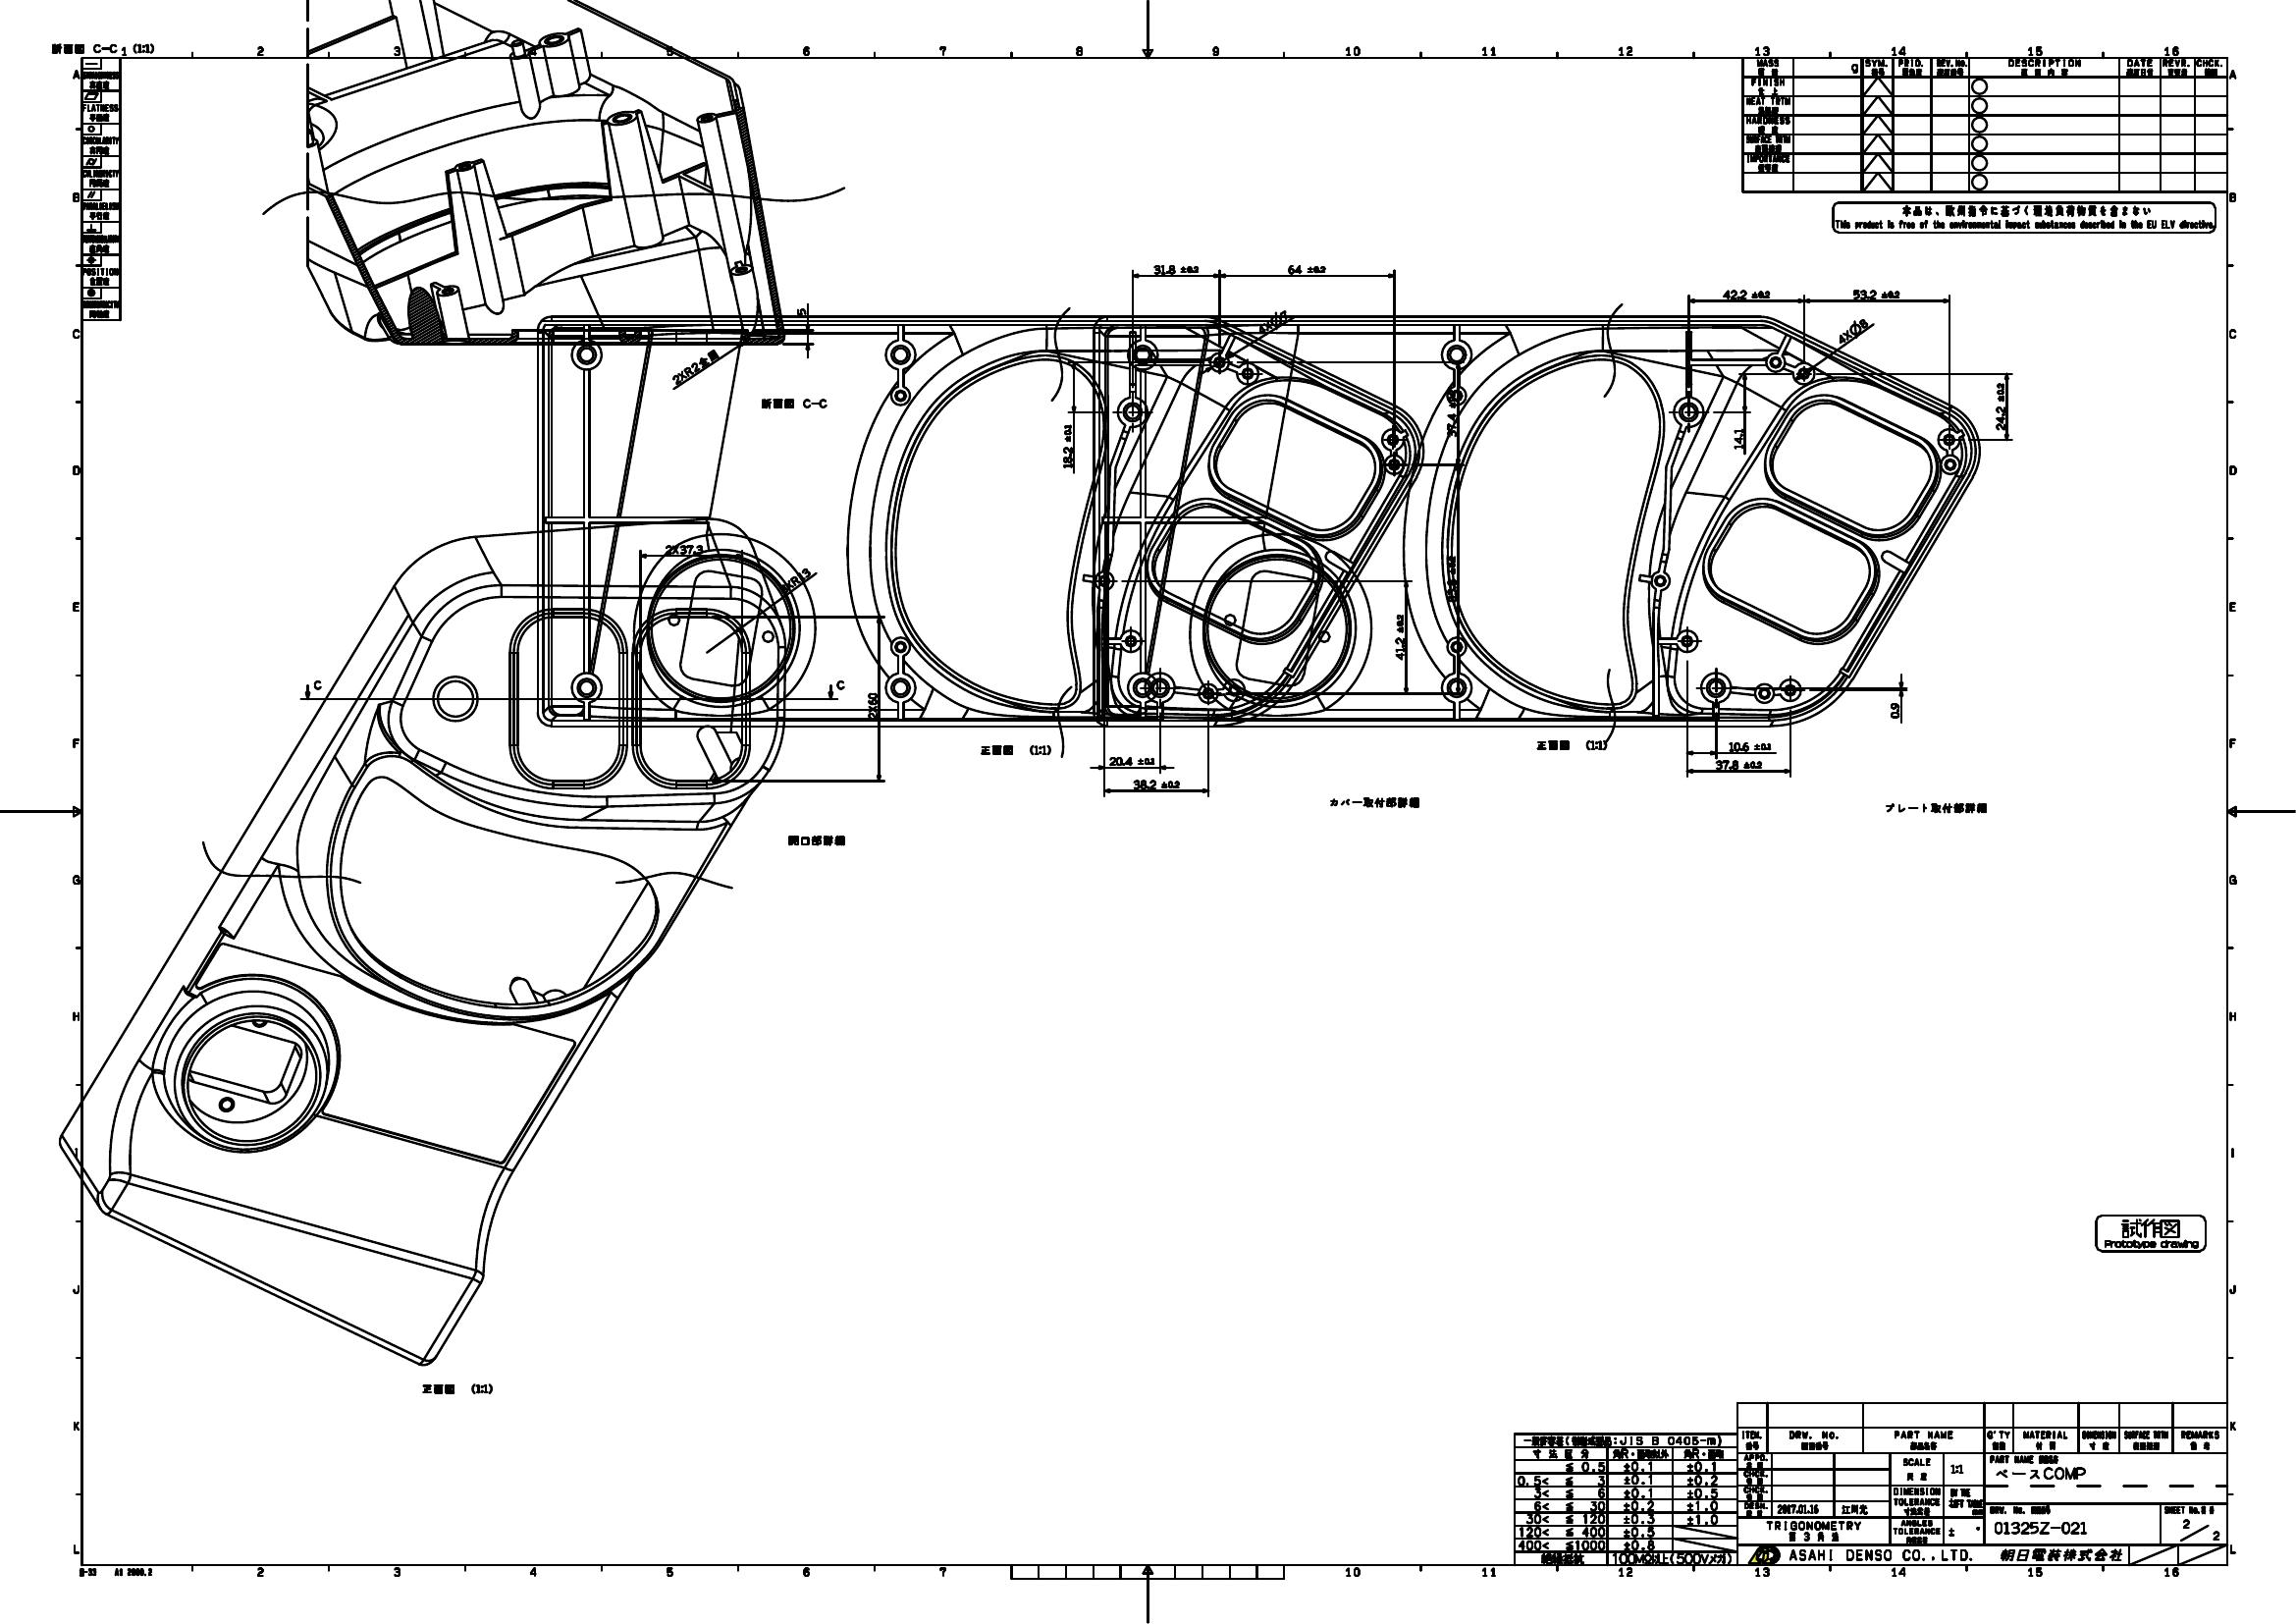anntotation_text: (1832, 202, 2215, 230), (2094, 1216, 2206, 1251), (47, 40, 162, 56), (1880, 801, 1992, 816), (1325, 796, 1423, 812), (980, 742, 1058, 759), (416, 1380, 499, 1396), (783, 833, 848, 851), (1532, 738, 1607, 752), (761, 395, 840, 408), (77, 1568, 153, 1577), (697, 350, 722, 364), (834, 677, 848, 692), (313, 675, 325, 692)
dimension_text: (1151, 262, 1203, 278), (1994, 380, 2008, 432), (1059, 424, 1073, 471), (1393, 608, 1405, 661), (1727, 740, 1776, 752), (1133, 777, 1180, 789), (662, 541, 703, 555), (1720, 288, 1771, 299), (1852, 288, 1903, 299), (1836, 322, 1869, 337), (1446, 388, 1456, 438), (1286, 262, 1326, 274), (1715, 759, 1765, 768), (1108, 756, 1156, 765), (669, 366, 703, 378), (1730, 425, 1743, 450), (1885, 701, 1901, 719)
object: (60, 0, 1982, 1367)
title_block: (1514, 1403, 2227, 1568), (1741, 56, 2226, 190), (83, 60, 121, 320)
